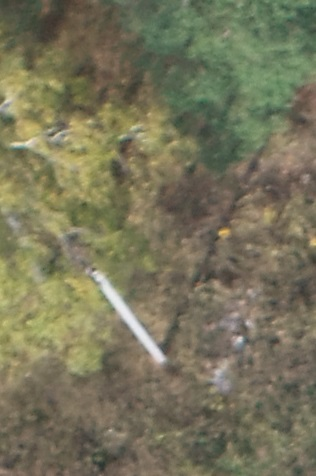opora: (75, 249, 183, 365)
